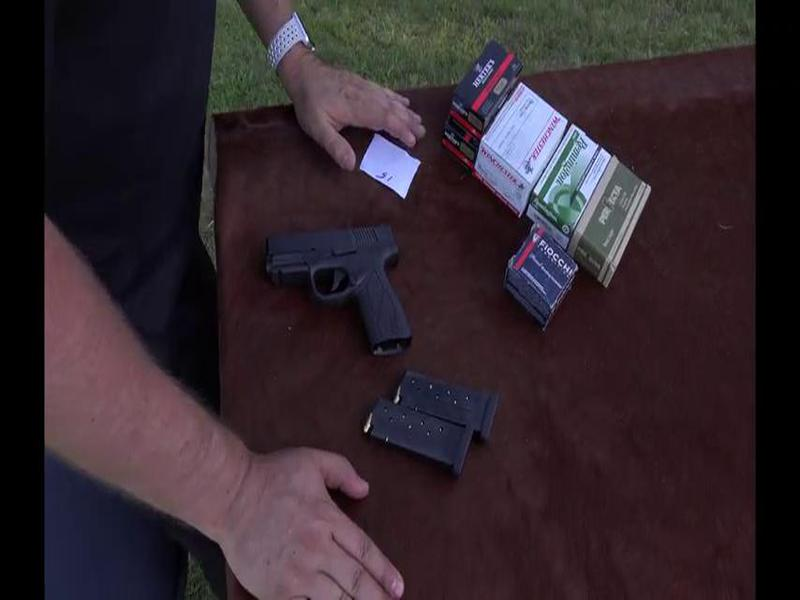Pistola: (247, 224, 426, 366)
